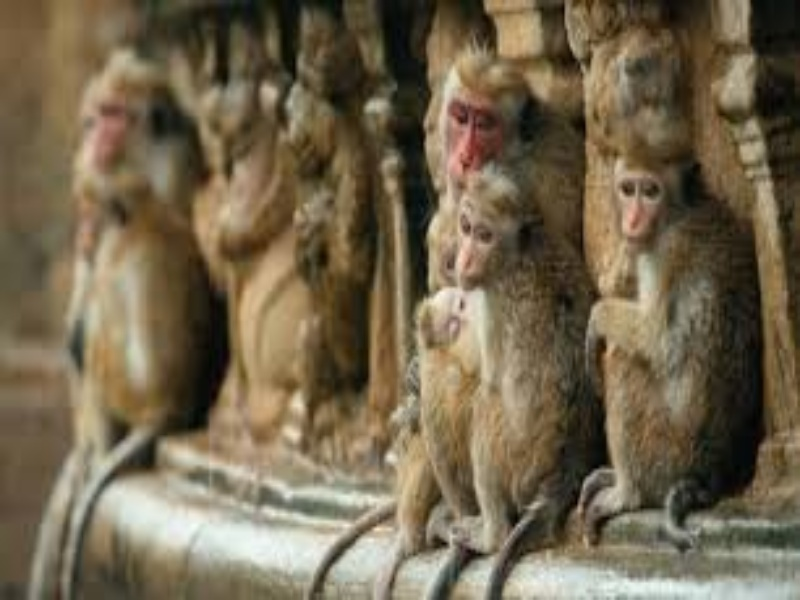monkey: (608, 145, 793, 523), (454, 185, 591, 523), (90, 70, 171, 441), (416, 54, 573, 201)
